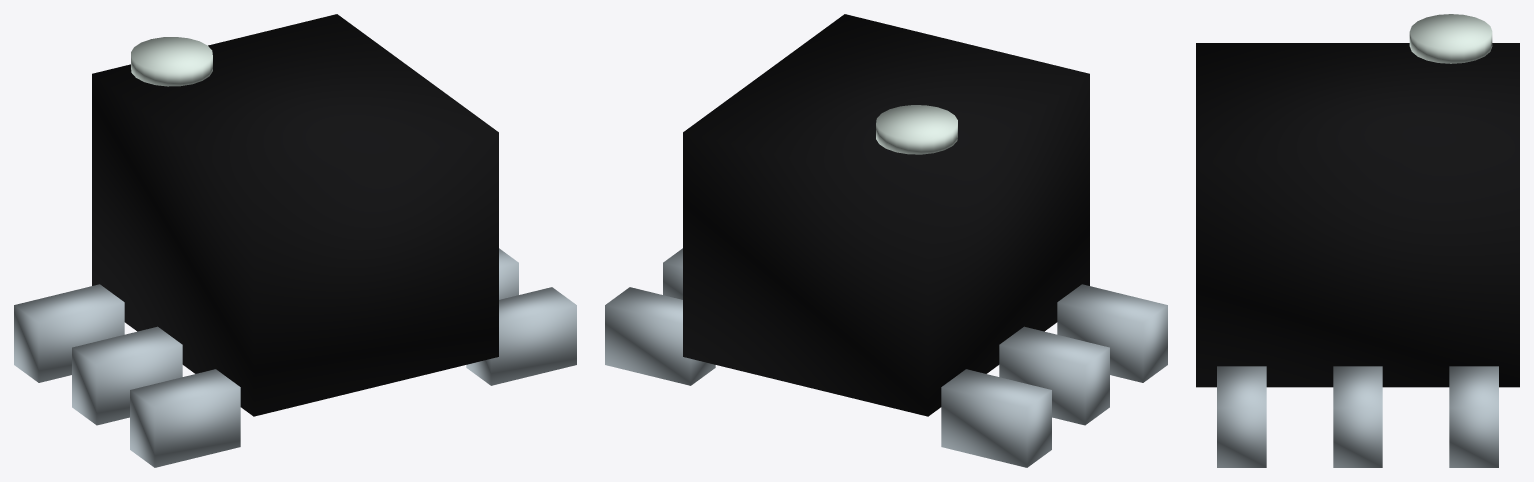
File: 17_L94_U2_LDO_SOT223.fbx
3 renders of one model, left to right at view 1: azimuth 30°, elevation 25°; view 2: azimuth 150°, elevation 25°; view 3: azimuth 270°, elevation 25°, orthographic.
Visible parts, largest first — view 1: L94_LDO_SOT223_Part_0000, L94_LDO_SOT223_Part_0001, L94_LDO_SOT223_Part_0002; view 2: L94_LDO_SOT223_Part_0000, L94_LDO_SOT223_Part_0001, L94_LDO_SOT223_Part_0002; view 3: L94_LDO_SOT223_Part_0000, L94_LDO_SOT223_Part_0001, L94_LDO_SOT223_Part_0002.
Part boxes in pixels (left/top/right/bottom): L94_LDO_SOT223_Part_0000: left=92, top=14, right=498, bottom=416; L94_LDO_SOT223_Part_0001: left=14, top=248, right=576, bottom=467; L94_LDO_SOT223_Part_0002: left=131, top=37, right=212, bottom=86; L94_LDO_SOT223_Part_0000: left=683, top=14, right=1089, bottom=416; L94_LDO_SOT223_Part_0001: left=605, top=248, right=1167, bottom=467; L94_LDO_SOT223_Part_0002: left=876, top=105, right=957, bottom=154; L94_LDO_SOT223_Part_0000: left=1196, top=43, right=1519, bottom=387; L94_LDO_SOT223_Part_0001: left=1217, top=366, right=1498, bottom=467; L94_LDO_SOT223_Part_0002: left=1409, top=14, right=1492, bottom=63.
Bounding box in the file's own units: 11.81 × 7.9 × 7.84.
